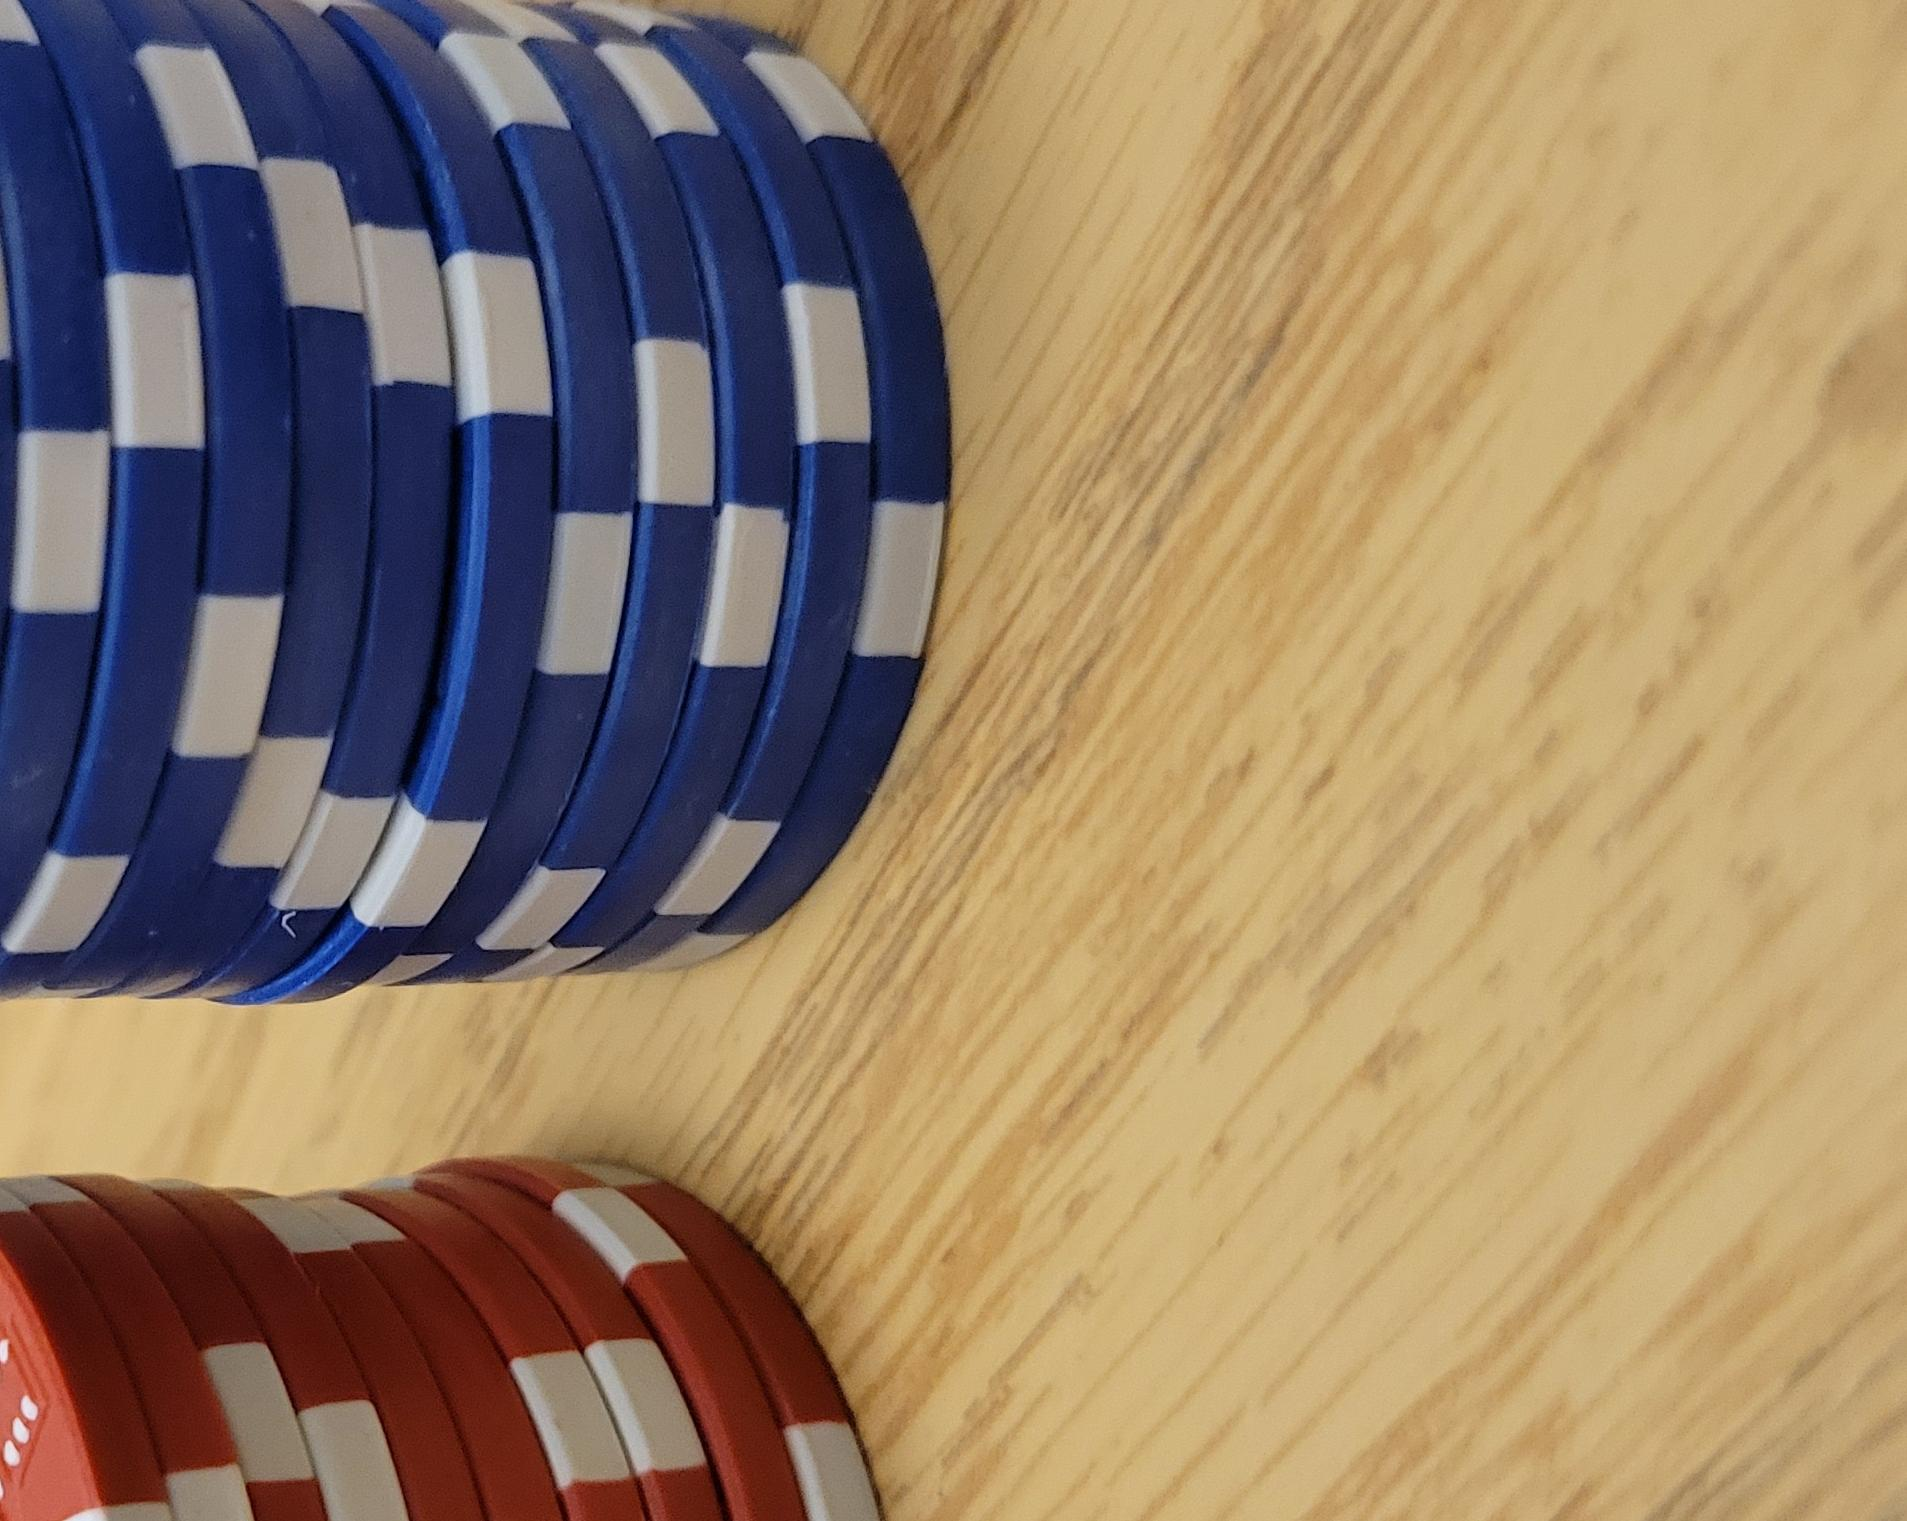Chip: (2, 172, 981, 1521)
